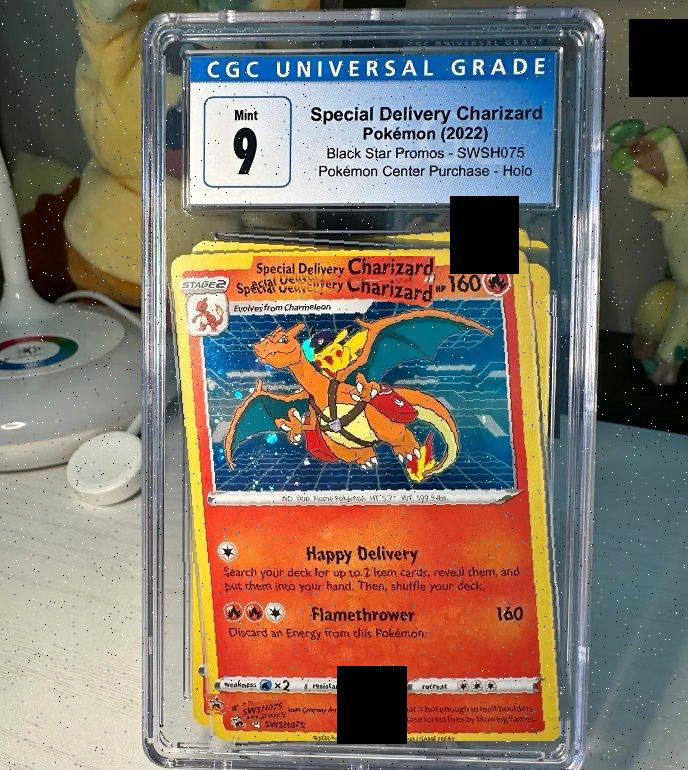card: (172, 247, 560, 741)
name: (252, 256, 435, 288)
set num: (237, 700, 286, 717)
set symbol: (207, 695, 227, 714)
